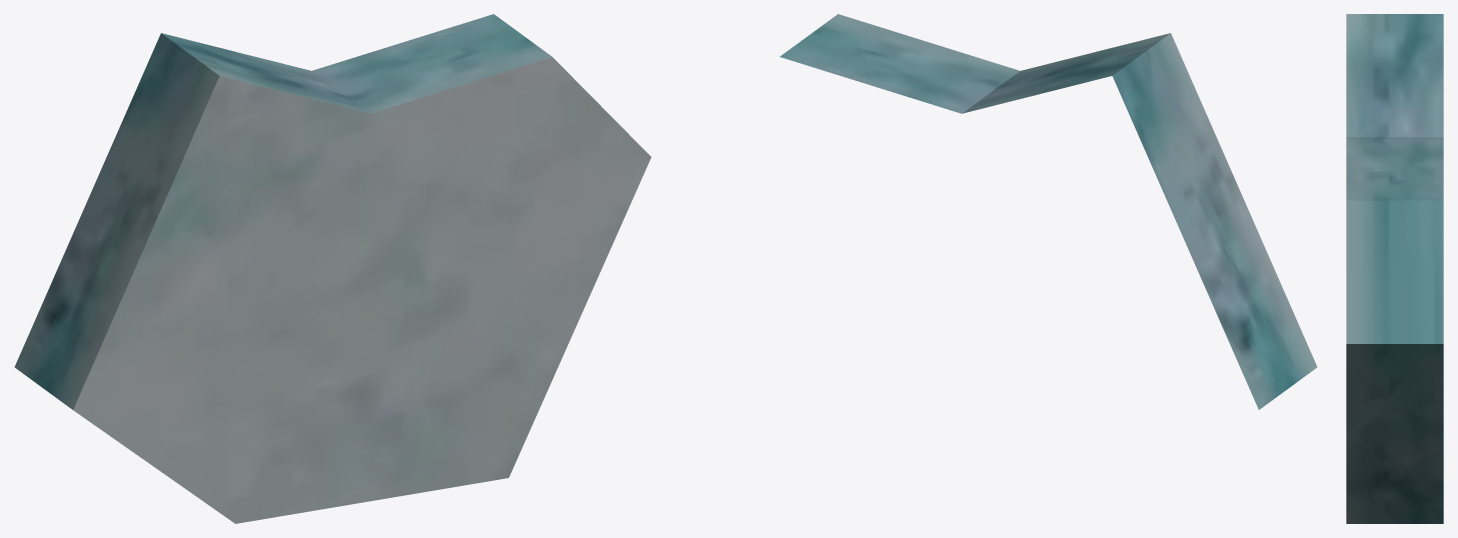
3 views of the same model, side by side, from view 1: azimuth 30°, elevation 25°; view 2: azimuth 150°, elevation 25°; view 3: azimuth 270°, elevation 25° (orthographic). The views are drawn at different scales.
Parts seen in each view (by area): view 1: model_Object09; view 2: model_Object09; view 3: model_Object09.
Boxes of the visible parts, bbox=[...] form: model_Object09: bbox=[14, 14, 651, 523]; model_Object09: bbox=[780, 14, 1317, 409]; model_Object09: bbox=[1346, 14, 1443, 523].
Size of the model in its own units: 1.61 by 1.26 by 0.2834.
Materials: 1 (1 with a texture image).
